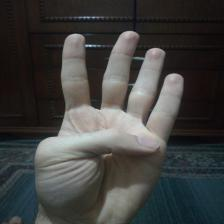four: (25, 26, 192, 222)
